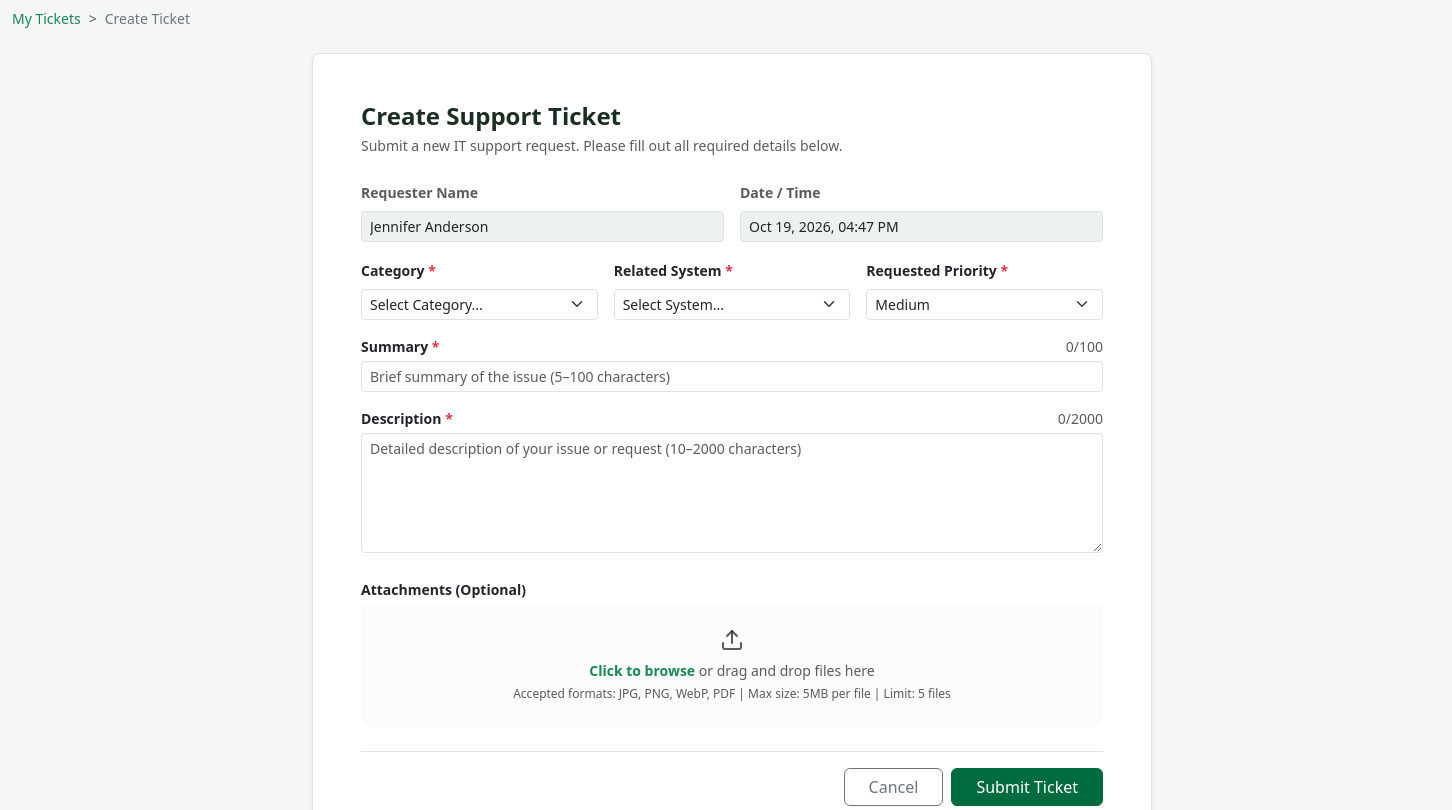
Test: CreateTicket Component Tests (UI-03, UI-03b, UI-04, UI-09) › UI-03: Validation errors and preserved values (AC-07, BR-10) › displays dismissible API failure banner and preserves entered form values when POST fails (BR-10)
Fill out form
Select "Hardware" in the dropdown with test id "category-select" at (479, 304), box [361,289,598,320]
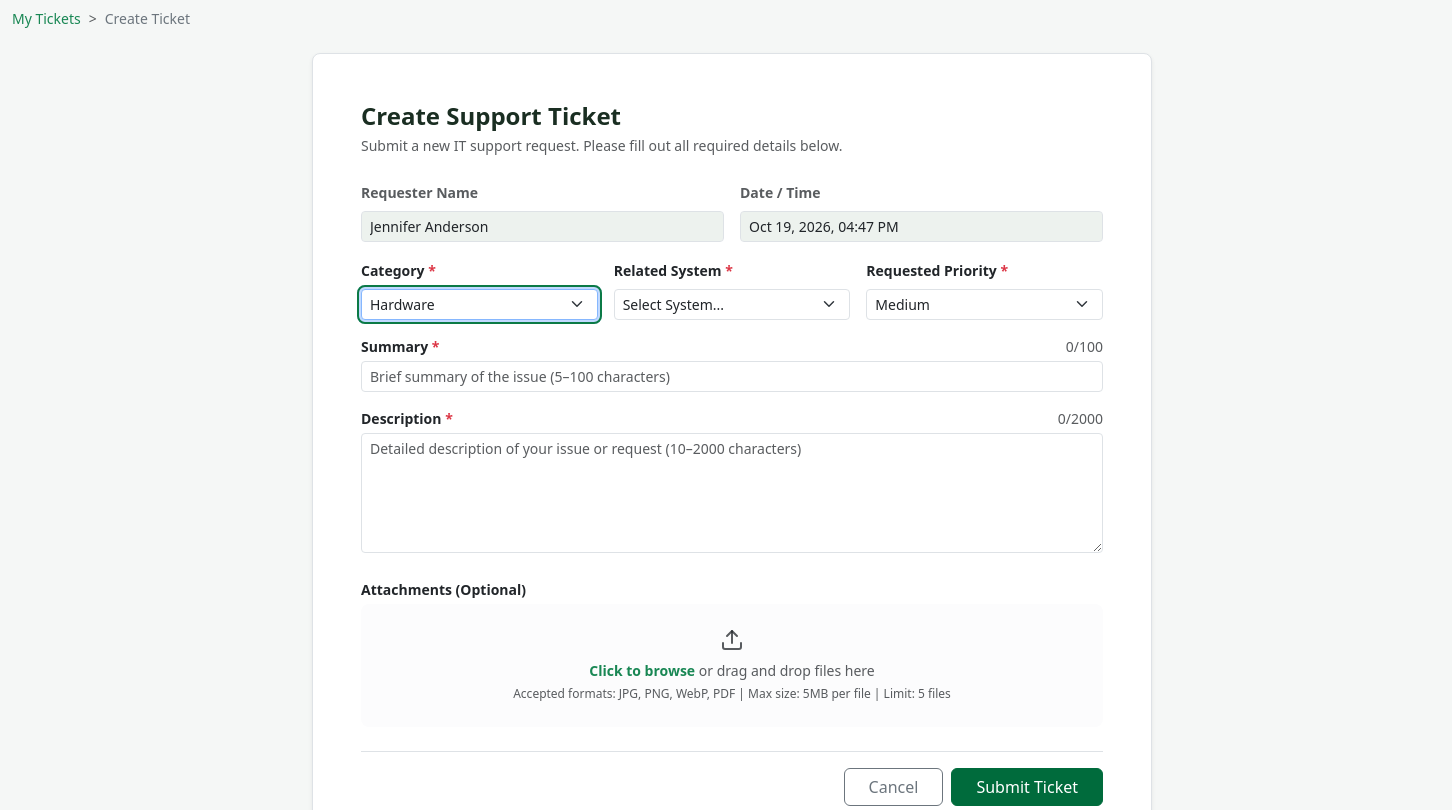
Select "Corporate Laptop" in the dropdown with test id "related-system-select" at (732, 304), box [614,289,850,320]
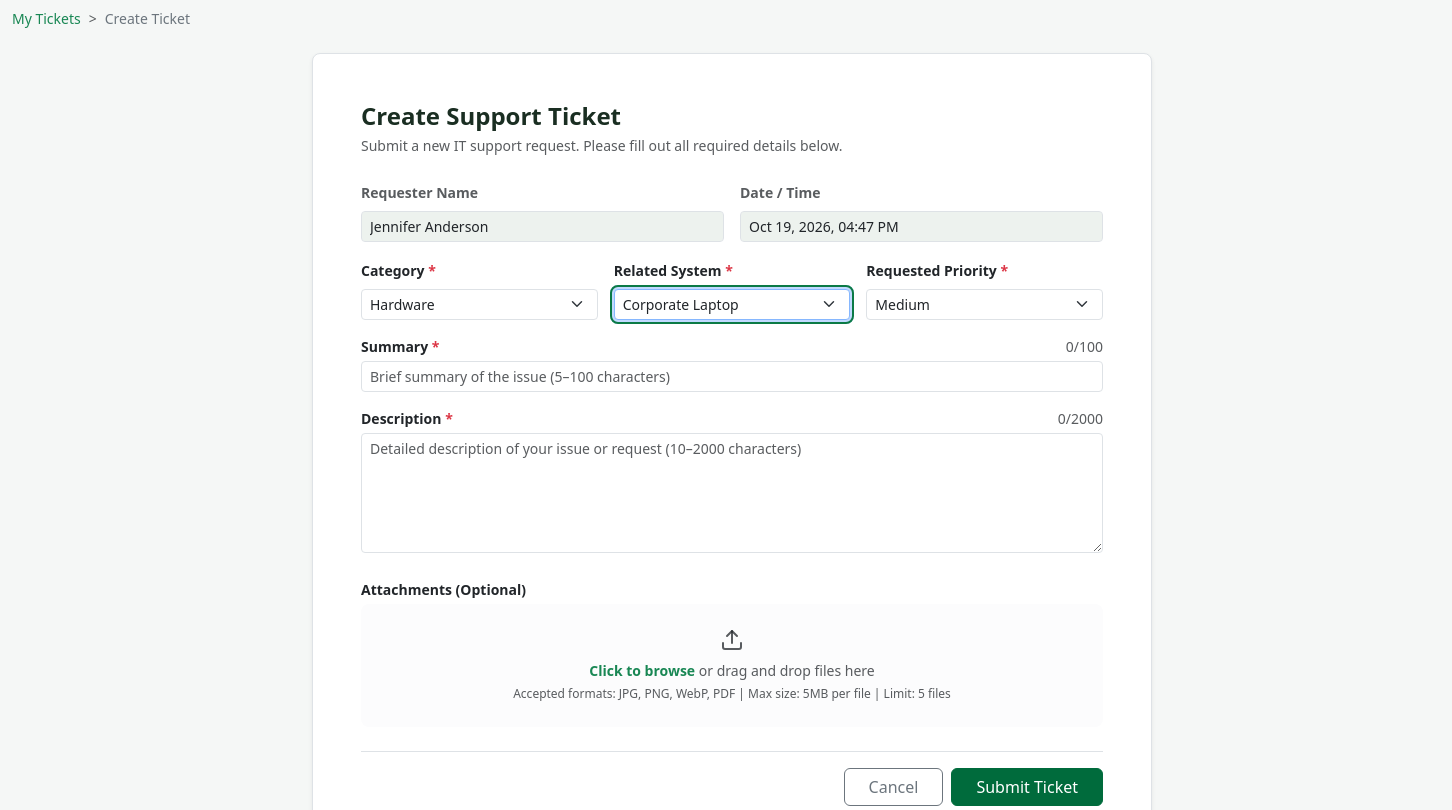
Type "Laptop battery drains fast" into the field with test id "summary-input" at (732, 376), box [361,361,1103,392]
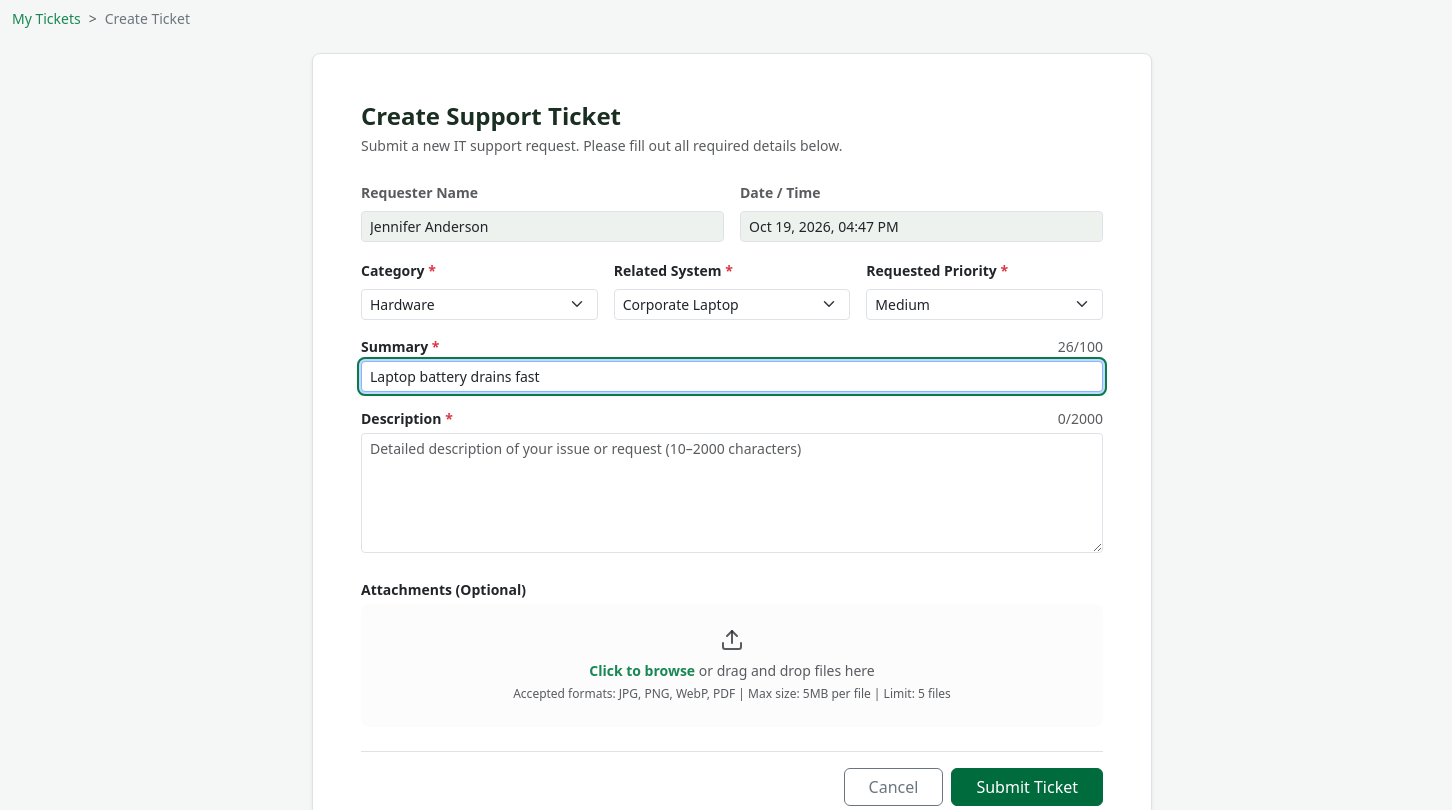
Type "Detailed description for ticket creation API failure test." into the text box with test id "description-input" at (732, 493), box [361,433,1103,553]
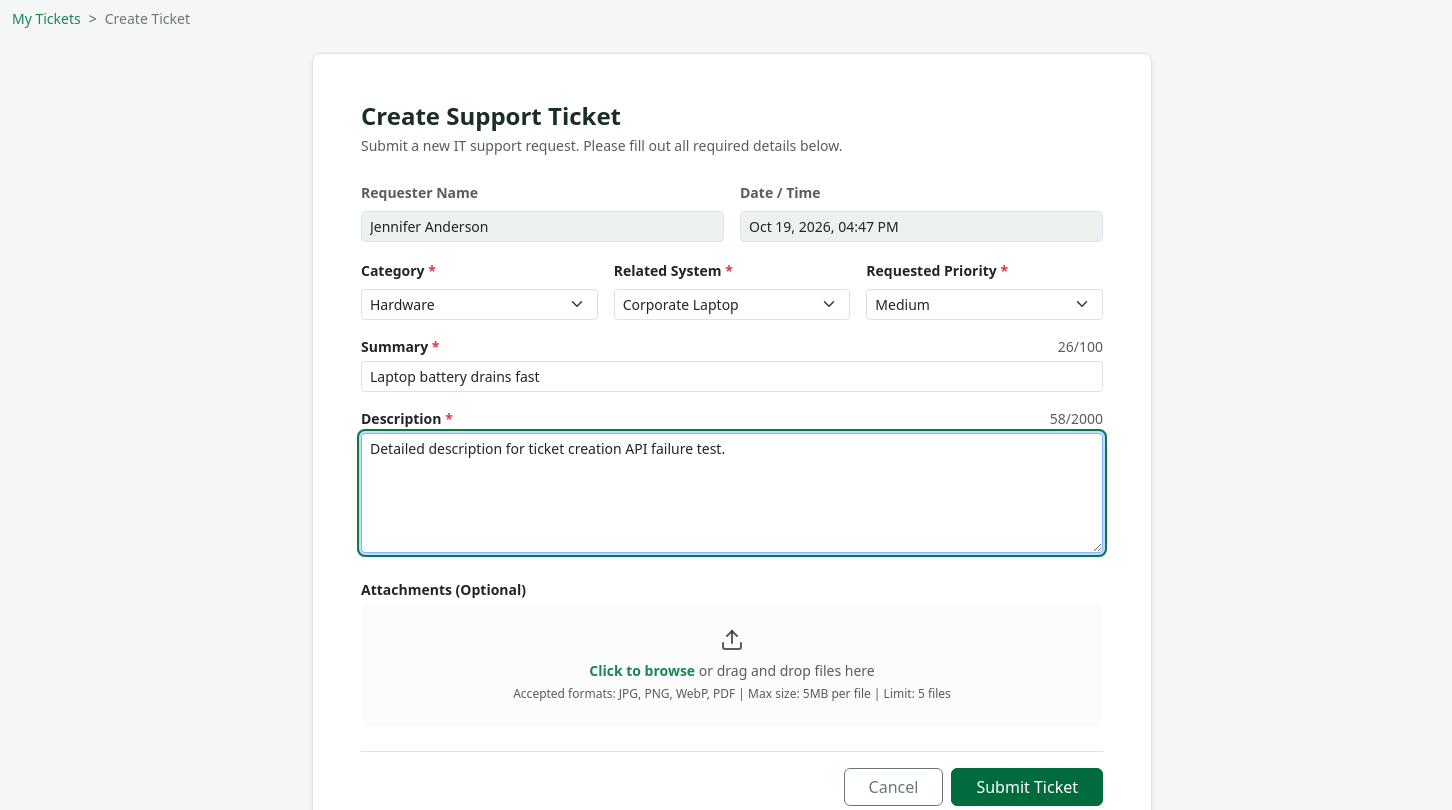
Click the button with test id "submit-ticket-button" at (1027, 787), box [951,768,1103,806]
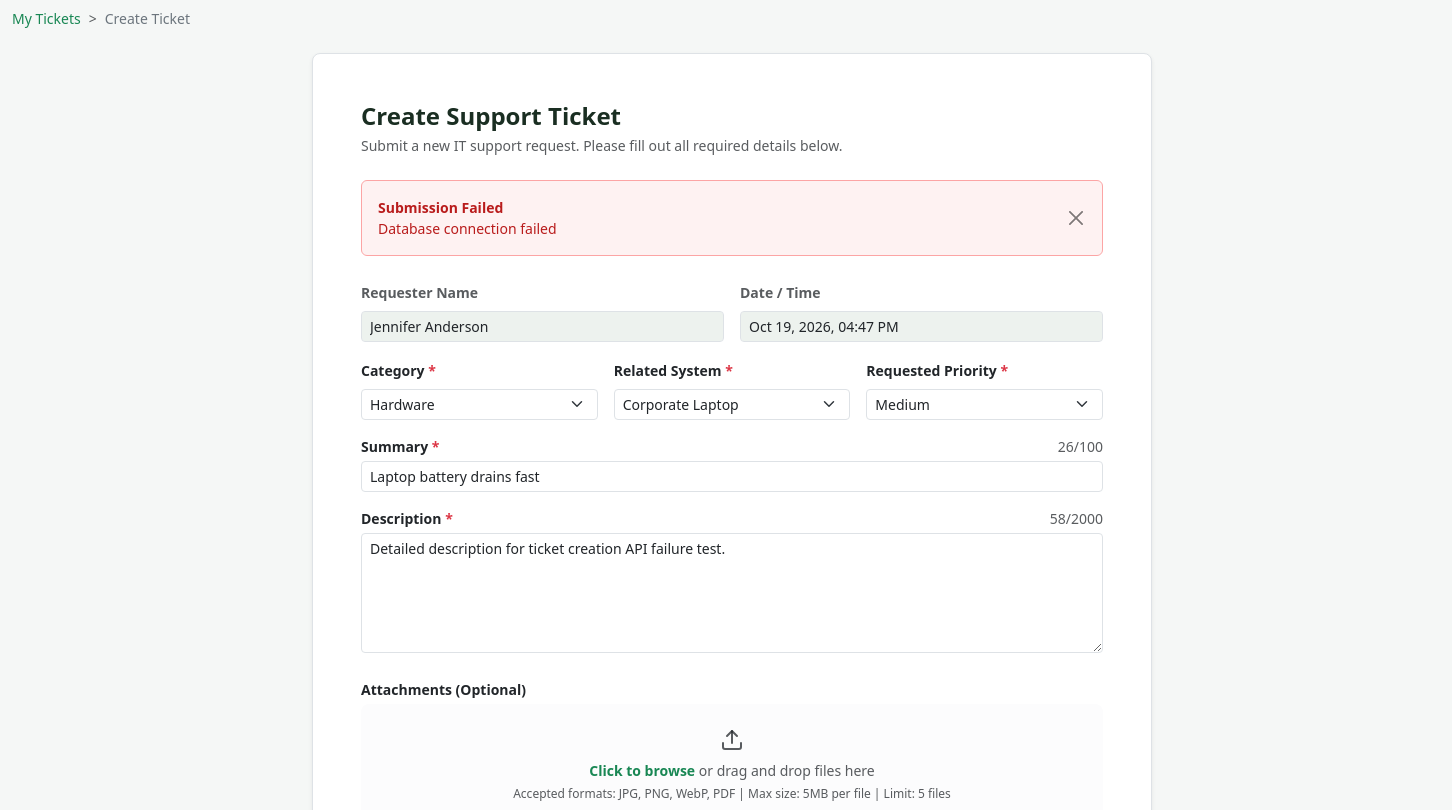
Result: the message "Submission Failed Database connection failed" is shown at [361,180,1103,256]
Result: the text "Database connection failed" is shown at [378,218,557,239]
